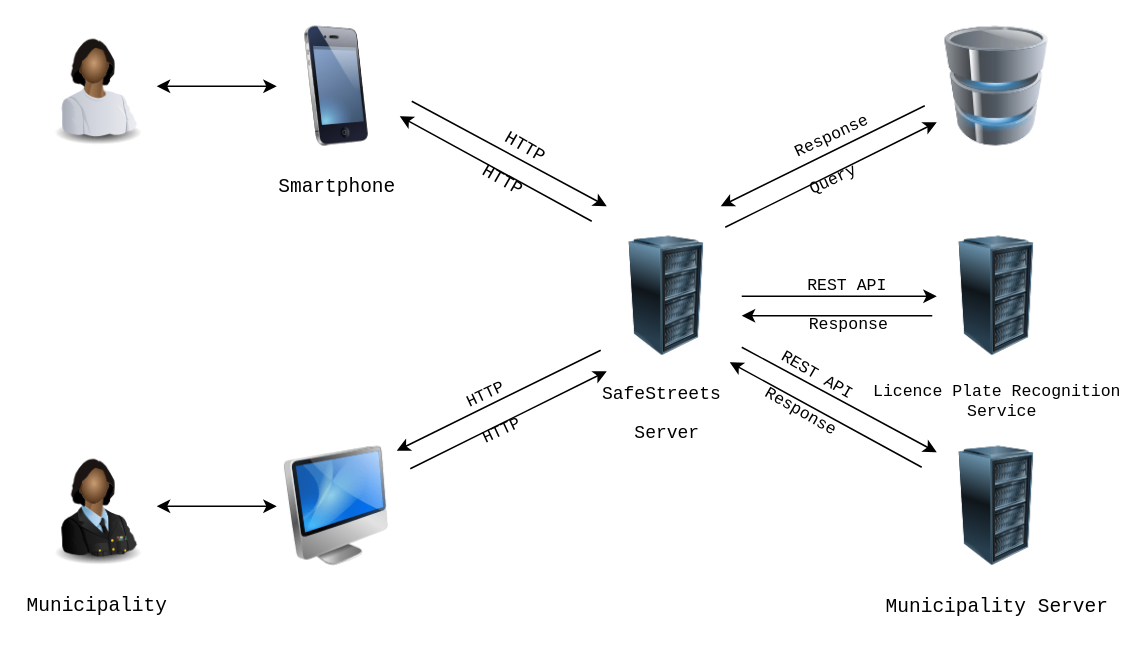
This 1146x665 diagram has some shape labels left out. Each missing label, with the centre of its shape:
"SafeStreets DB Server" goes at [996,86].
"User" goes at [96,86].
"Website" goes at [336,506].
